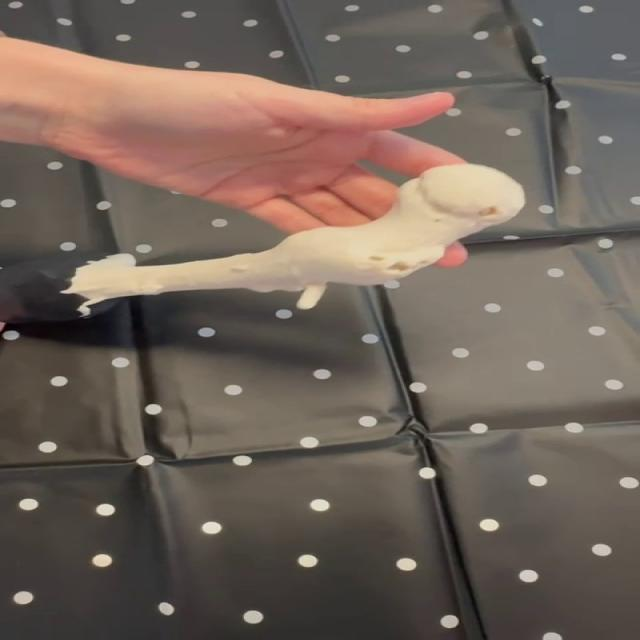bones: (0, 164, 525, 322)
